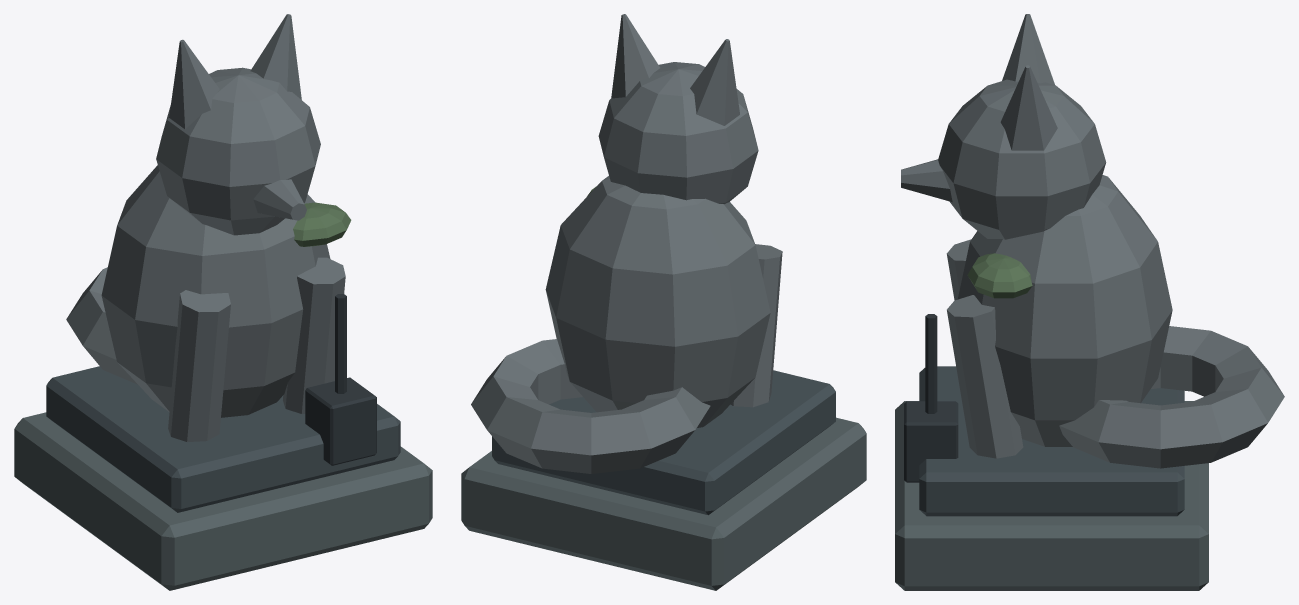
The model's file is hero_fox_statue.glb.
3 views of the same model, side by side, from view 1: azimuth 30°, elevation 25°; view 2: azimuth 150°, elevation 25°; view 3: azimuth 270°, elevation 25° (orthographic). The views are drawn at different scales.
Visible parts, largest first — view 1: HeroFoxStatue; view 2: HeroFoxStatue; view 3: HeroFoxStatue.
Part boxes in pixels (x1,y1,x2,y2): HeroFoxStatue: (14, 14, 432, 590); HeroFoxStatue: (461, 14, 866, 590); HeroFoxStatue: (895, 14, 1284, 590).
Bounding box in the file's own units: 2.6 × 4.47 × 3.23.
